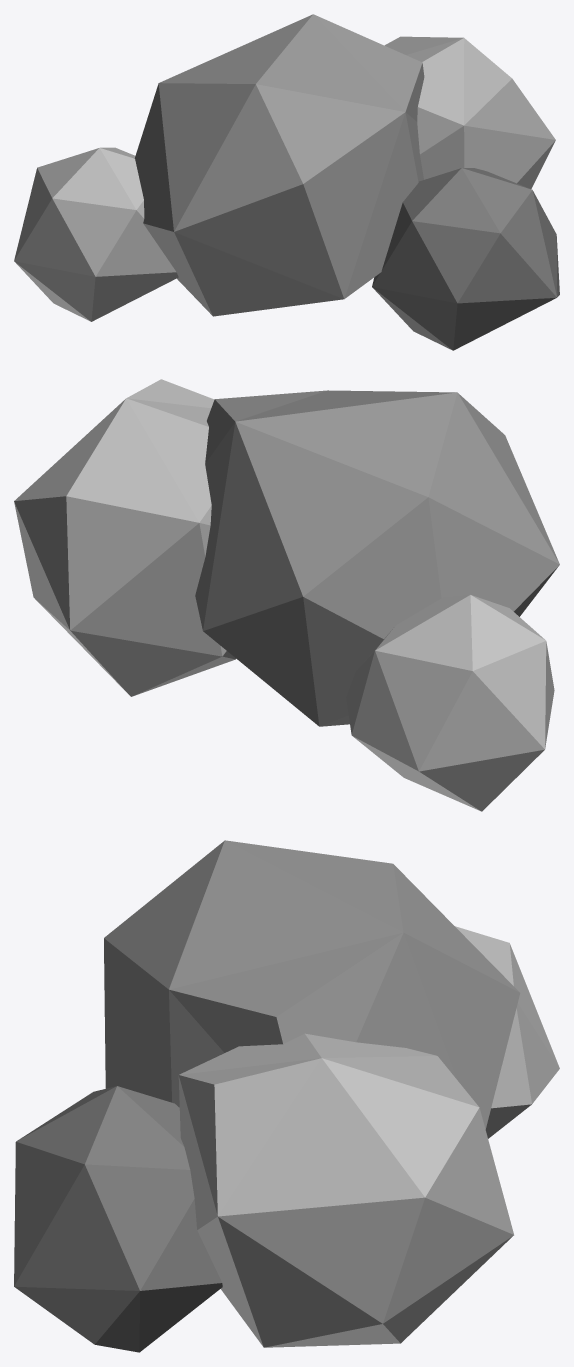
Rendered from EA03_Environment_Rock_Head_01b.glb.
3 views of the same model, one above another, from view 1: azimuth 30°, elevation 25°; view 2: azimuth 150°, elevation 25°; view 3: azimuth 270°, elevation 25° (orthographic). The views are drawn at different scales.
Visible parts, largest first — view 1: EA03_Environment_Rock_Head_01b; view 2: EA03_Environment_Rock_Head_01b; view 3: EA03_Environment_Rock_Head_01b.
Boxes of the visible parts, x1,y1,x2,y2 form: EA03_Environment_Rock_Head_01b: (14, 14, 559, 350); EA03_Environment_Rock_Head_01b: (14, 379, 559, 811); EA03_Environment_Rock_Head_01b: (14, 840, 559, 1352).
Size of the model in its own units: 0.9569 by 0.5318 by 0.714.
Materials: 1 (1 with a texture image).
